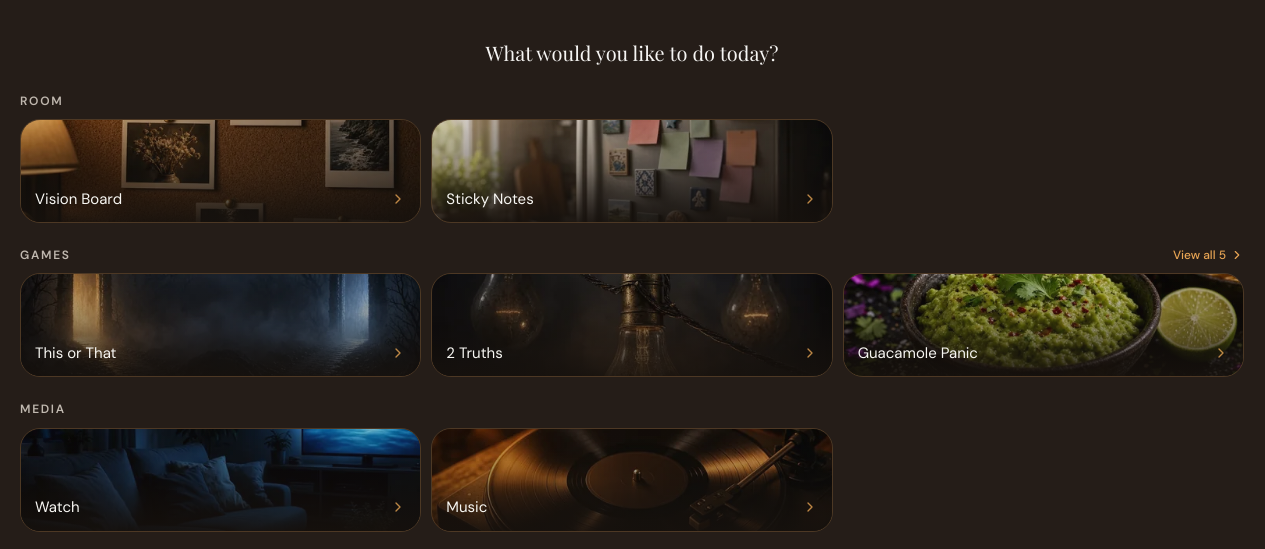
it: ActivityLobby › searches the games by name and by what they are
Click the button "View all 5" at (1208, 255), box [1173, 247, 1244, 263]
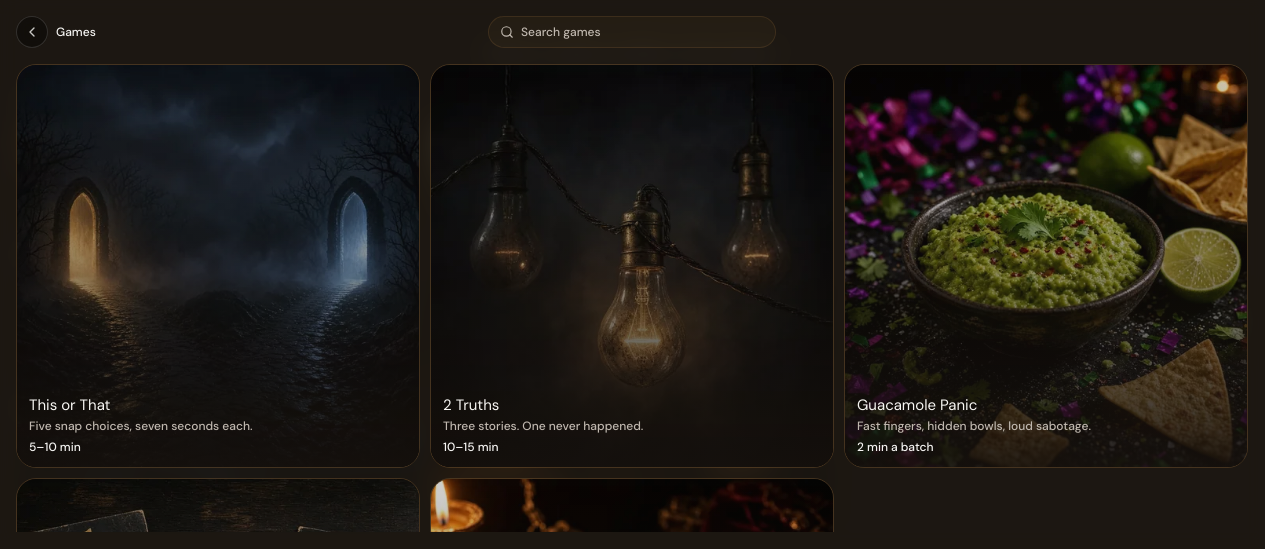
Type "rank" into the search field labelled "Search games" at (632, 32), box [488, 16, 776, 48]
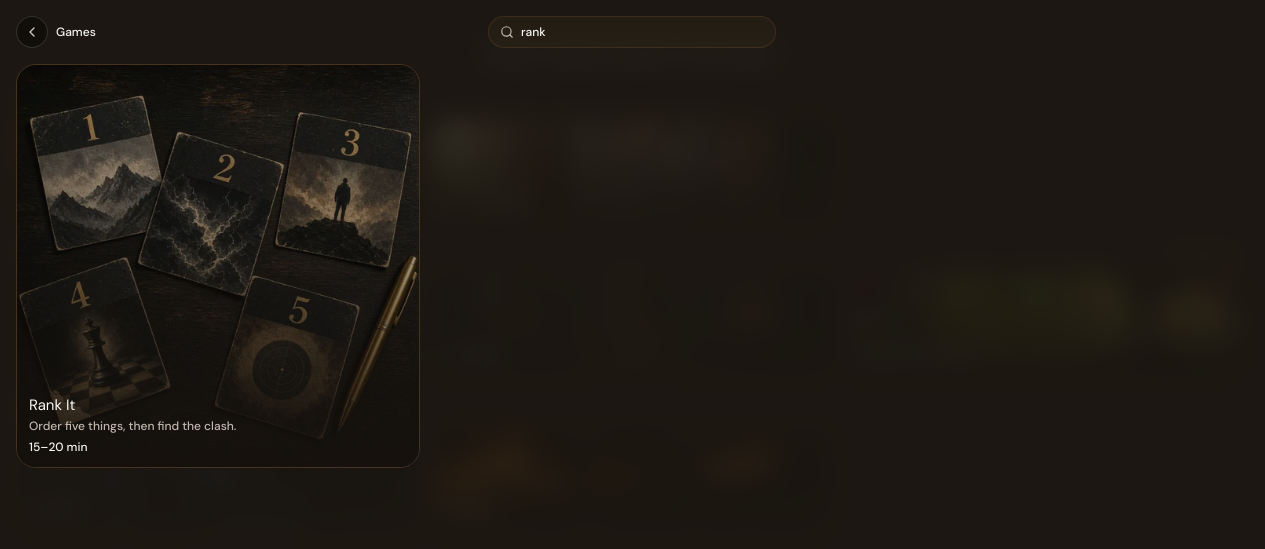
Expected: the button "Rank It Order five things, then find the clash. 15–20 min" is shown, [16, 64, 420, 468]
Note: The description counts too: Open Book never says "questions" in its name.
Replace the text in the search field named "Search games" with "questions" at (632, 32), box [488, 16, 776, 48]
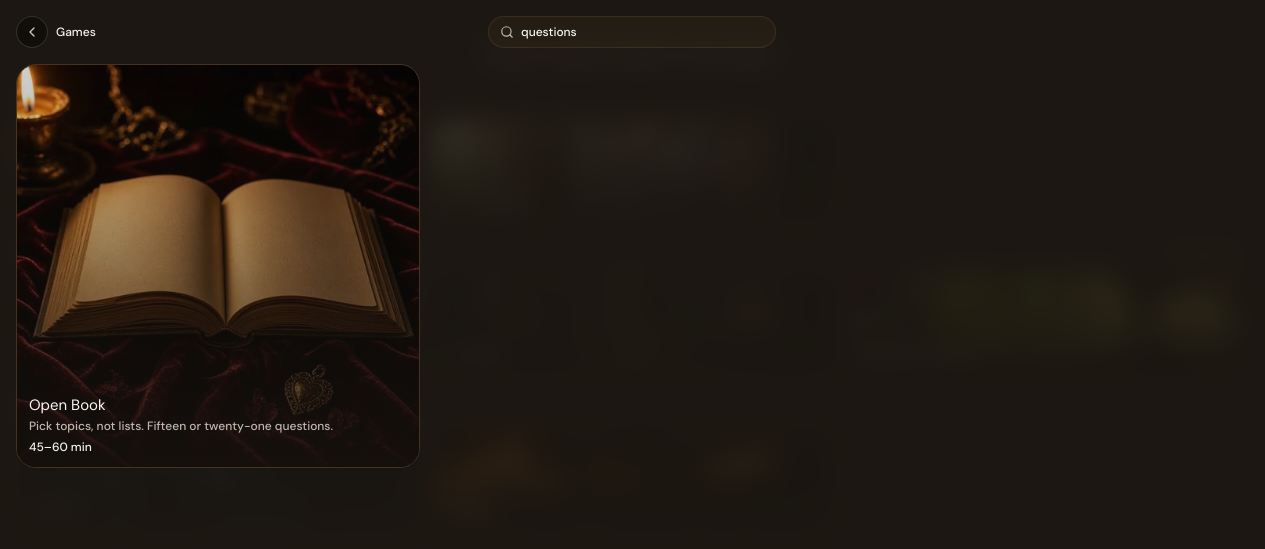
Expected: the button "Open Book" is shown, [16, 64, 420, 468]
Replace the text in the search field named "Search games" with "zzz" at (632, 32), box [488, 16, 776, 48]
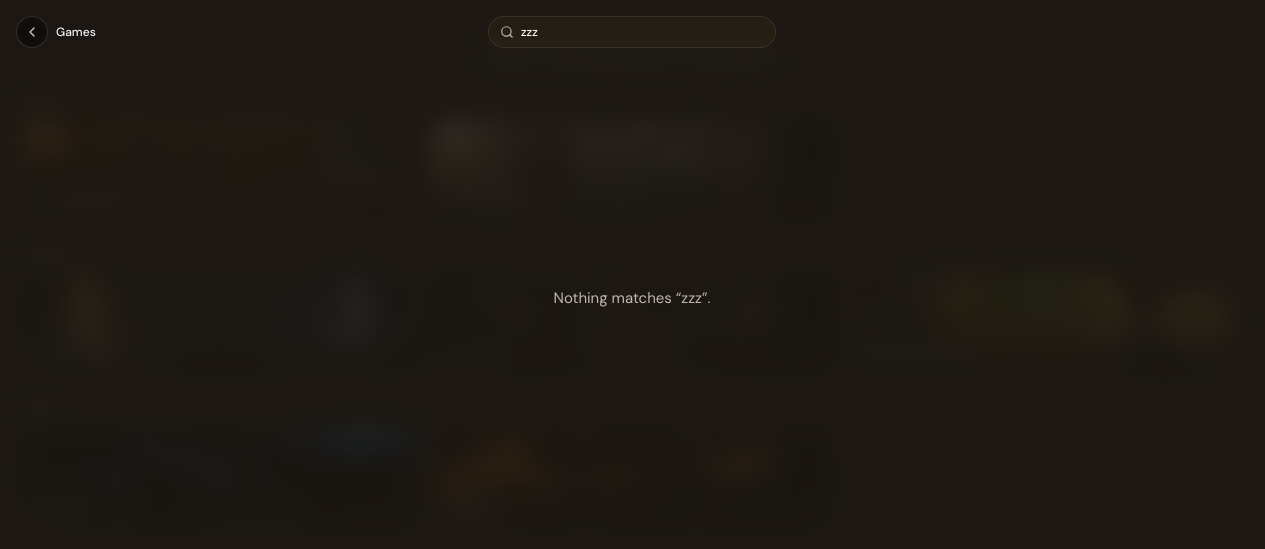
Expected: the text "Nothing matches “zzz”." is shown, [554, 288, 710, 308]
